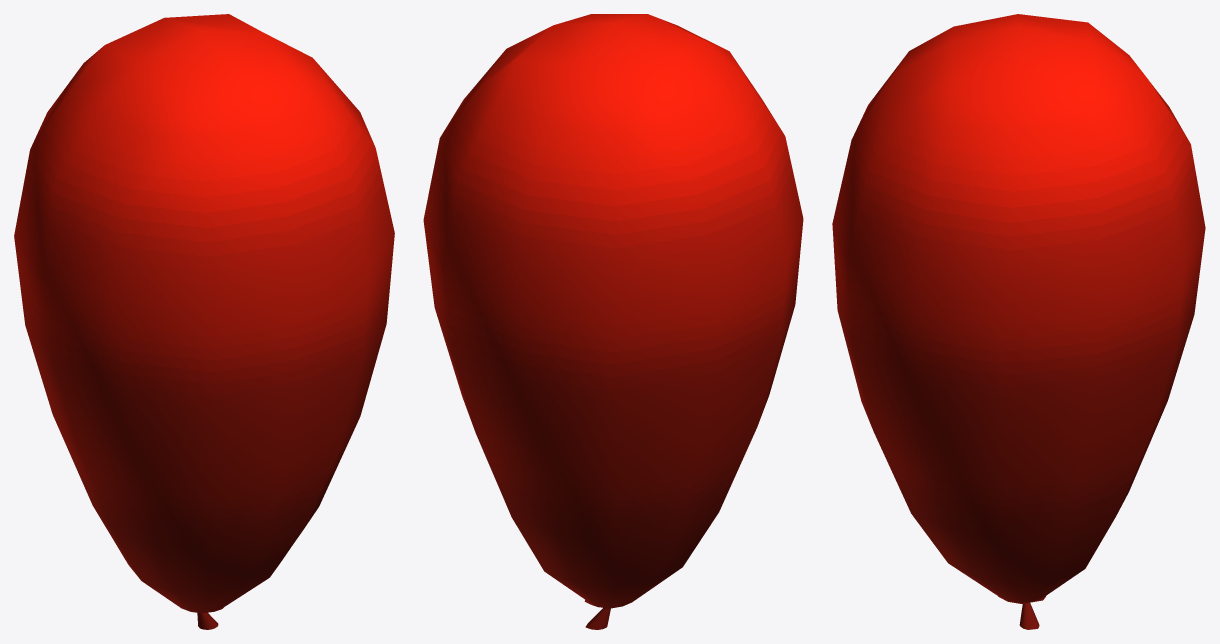
File: SM_Balloon.fbx
The picture shows the model from 3 angles, left to right: view 1: azimuth 30°, elevation 25°; view 2: azimuth 150°, elevation 25°; view 3: azimuth 270°, elevation 25°; orthographic projection.
Visible parts, largest first — view 1: balloon; view 2: balloon; view 3: balloon.
Part boxes in pixels (x1,y1,x2,y2): balloon: (14,14,394,629); balloon: (423,14,803,629); balloon: (832,14,1205,629).
Bounding box in the file's own units: 20.11 × 34.41 × 19.63.
1 material, 1 textured.
